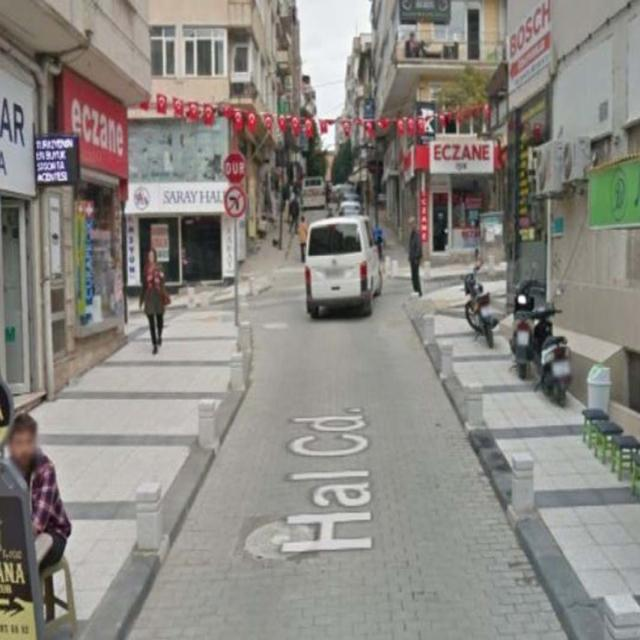dur: (224, 152, 246, 185)
soladonulmez: (224, 186, 247, 218)
